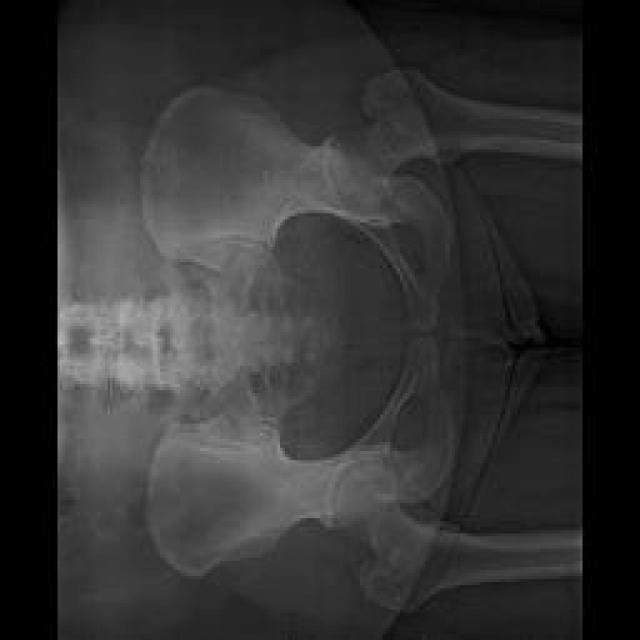normal: (151, 336, 582, 609), (139, 74, 584, 330)
